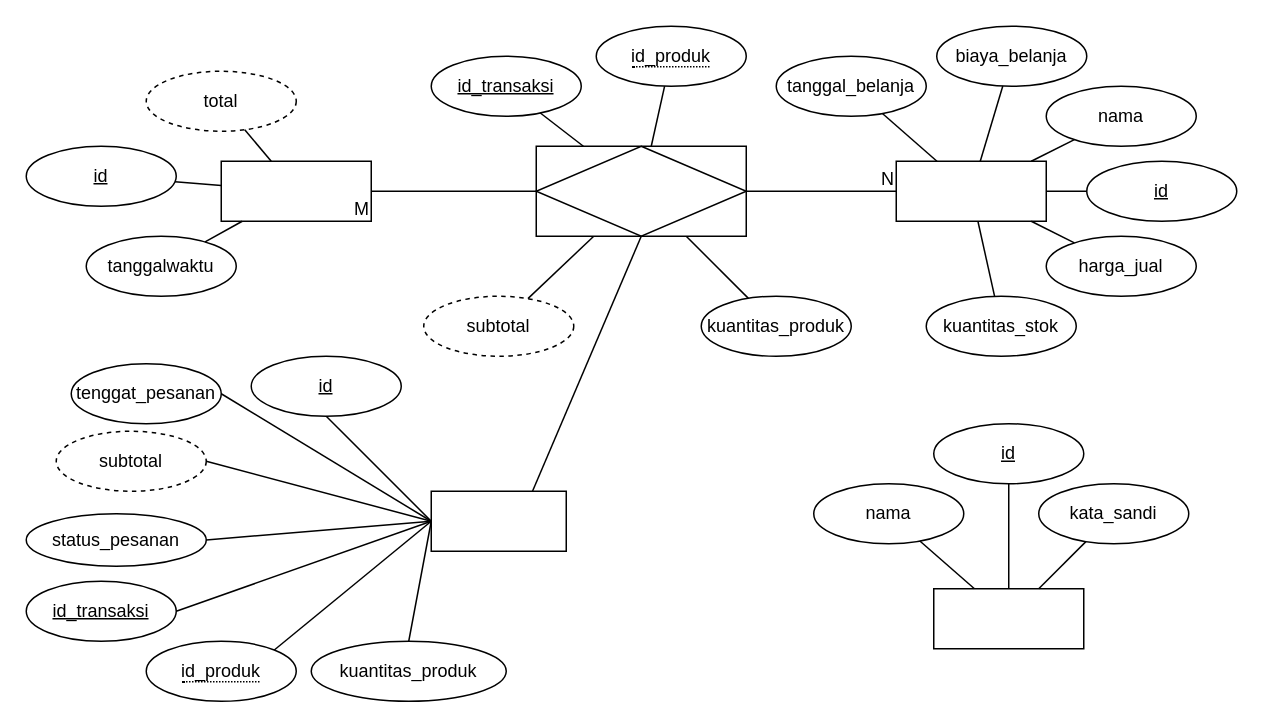
Image size: 1263x728. Some labels were removed from this diagram. The shapes that lost their labels are listed below. From the top down, each one's centre as x and y in pixels, then its label:
At (x=295, y=190): "Transaksi".
At (x=640, y=190): "Detail Transaksi".
At (x=970, y=190): "Produk".
At (x=498, y=520): "Pre-Order".
At (x=1008, y=618): "Akun".
